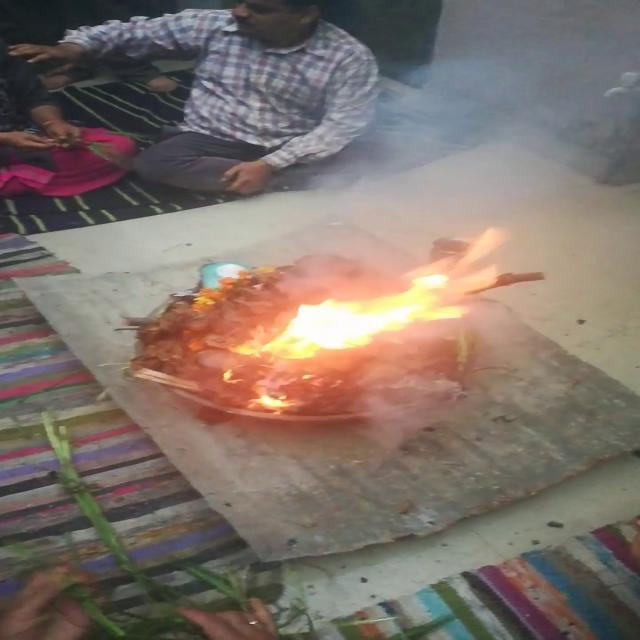Fire: (260, 230, 502, 358)
Smoke: (303, 97, 636, 231), (398, 2, 640, 96), (341, 357, 480, 451)
